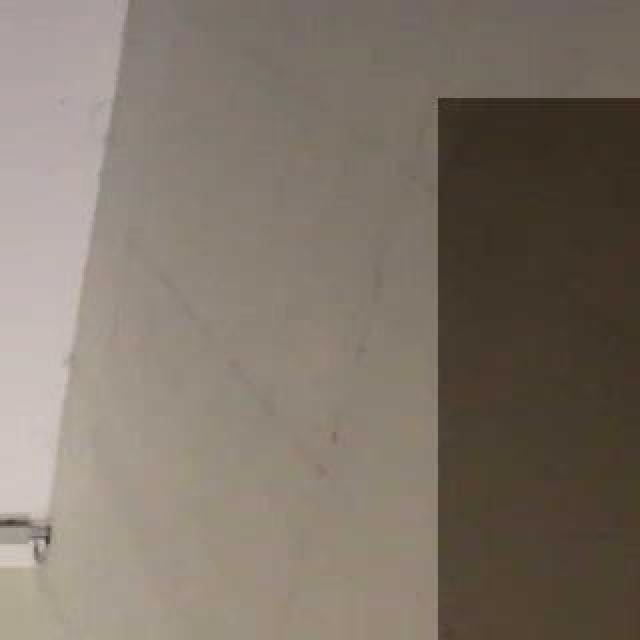fluorescent tube: (470, 118, 640, 640)
